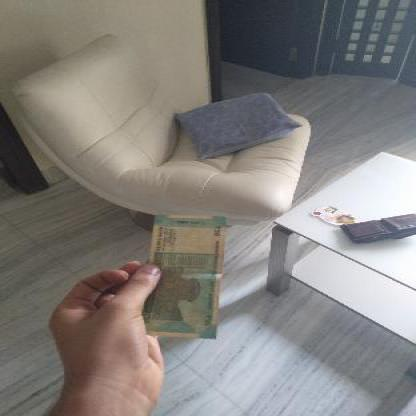New50Back: (153, 214, 220, 338)
